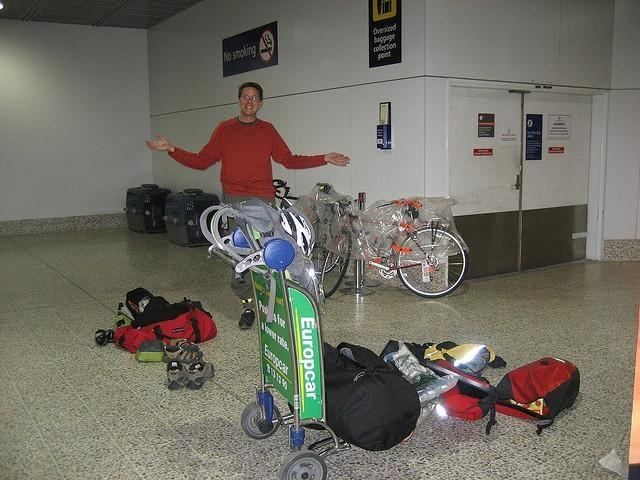bicycle: (318, 197, 469, 301), (272, 176, 332, 211)
